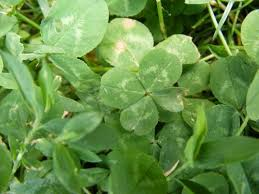4-clover: (104, 49, 188, 132)
